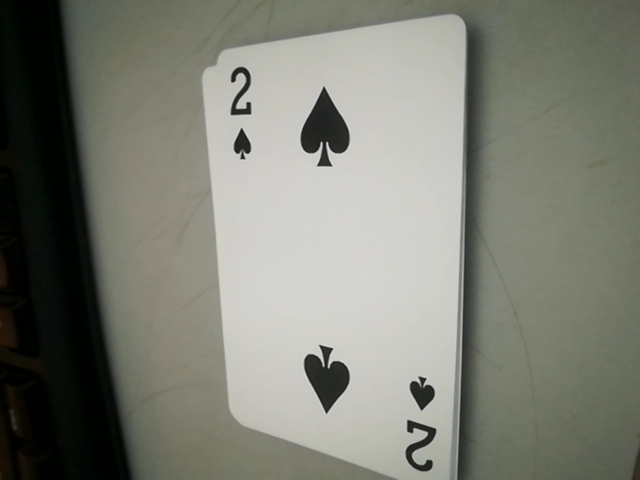ht 2: (211, 62, 267, 168)
